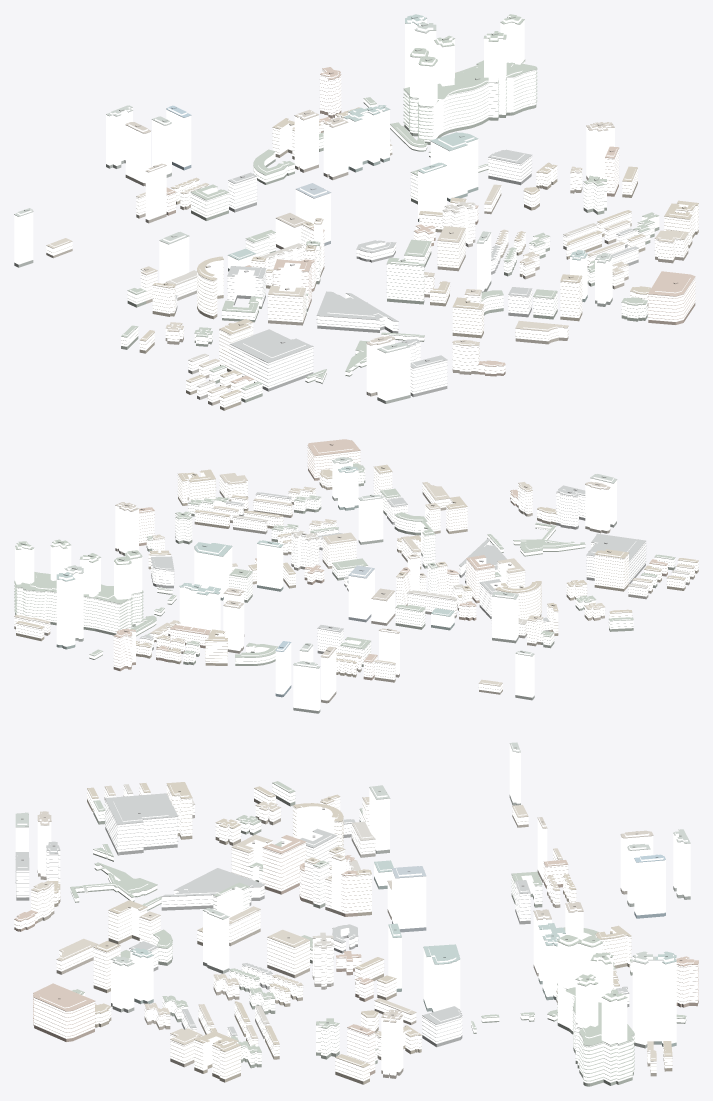
Rendered from buildings-0_2-fine.glb.
3 renders of one model, top to bottom at view 1: azimuth 30°, elevation 25°; view 2: azimuth 150°, elevation 25°; view 3: azimuth 270°, elevation 25°, orthographic. The views are drawn at different scales.
Visible parts, largest first — view 1: block_0_2_residential, block_0_2_office, block_0_2_roof, block_0_2_darkglass, block_0_2_concrete, block_0_2_steel; view 2: block_0_2_residential, block_0_2_office, block_0_2_roof, block_0_2_darkglass, block_0_2_concrete, block_0_2_steel; view 3: block_0_2_residential, block_0_2_office, block_0_2_roof, block_0_2_darkglass, block_0_2_concrete, block_0_2_steel.
Part boxes in pixels (x1=…): block_0_2_residential: x1=46, y1=61, x2=698, y2=407; block_0_2_office: x1=14, y1=15, x2=614, y2=400; block_0_2_roof: x1=14, y1=14, x2=698, y2=404; block_0_2_darkglass: x1=14, y1=102, x2=698, y2=410; block_0_2_concrete: x1=46, y1=60, x2=698, y2=405; block_0_2_steel: x1=14, y1=17, x2=614, y2=353; block_0_2_residential: x1=14, y1=445, x2=698, y2=692; block_0_2_office: x1=15, y1=458, x2=616, y2=710; block_0_2_roof: x1=14, y1=439, x2=698, y2=695; block_0_2_darkglass: x1=14, y1=468, x2=698, y2=713; block_0_2_concrete: x1=14, y1=448, x2=698, y2=689; block_0_2_steel: x1=16, y1=460, x2=616, y2=668; block_0_2_residential: x1=14, y1=783, x2=698, y2=1083; block_0_2_office: x1=15, y1=744, x2=690, y2=1082; block_0_2_roof: x1=14, y1=742, x2=698, y2=1083; block_0_2_darkglass: x1=14, y1=793, x2=698, y2=1086; block_0_2_concrete: x1=14, y1=783, x2=697, y2=1081; block_0_2_steel: x1=16, y1=747, x2=690, y2=1022.
Bounding box in the file's own units: 664 × 93.22 × 657.
